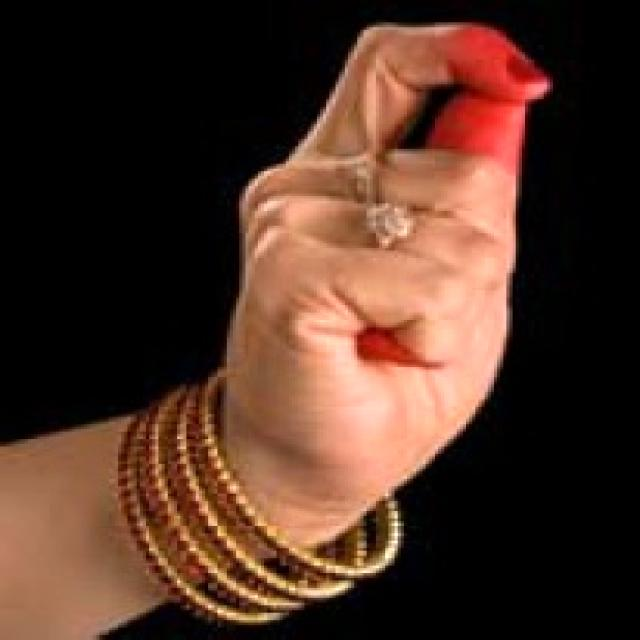Kapittha: (215, 11, 569, 498)
